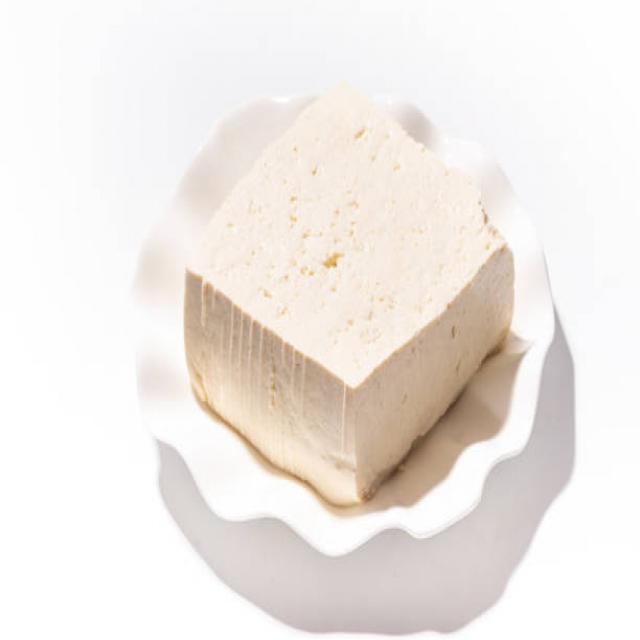Tofu Block: (188, 129, 507, 442)
